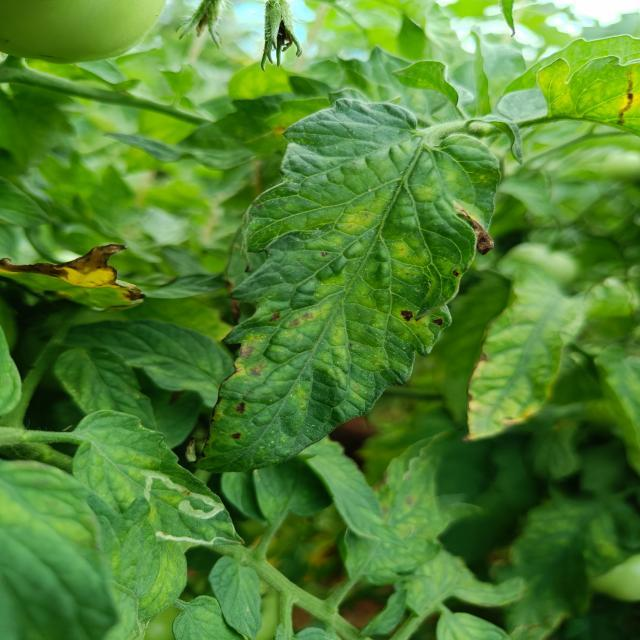Tomato mosaic virus leaf: (370, 202, 510, 356), (181, 386, 310, 482)
